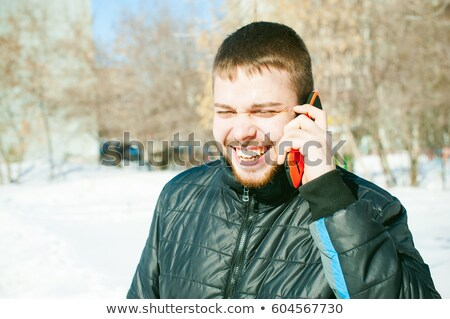phone: (287, 86, 331, 192)
talk: (216, 78, 336, 201)
